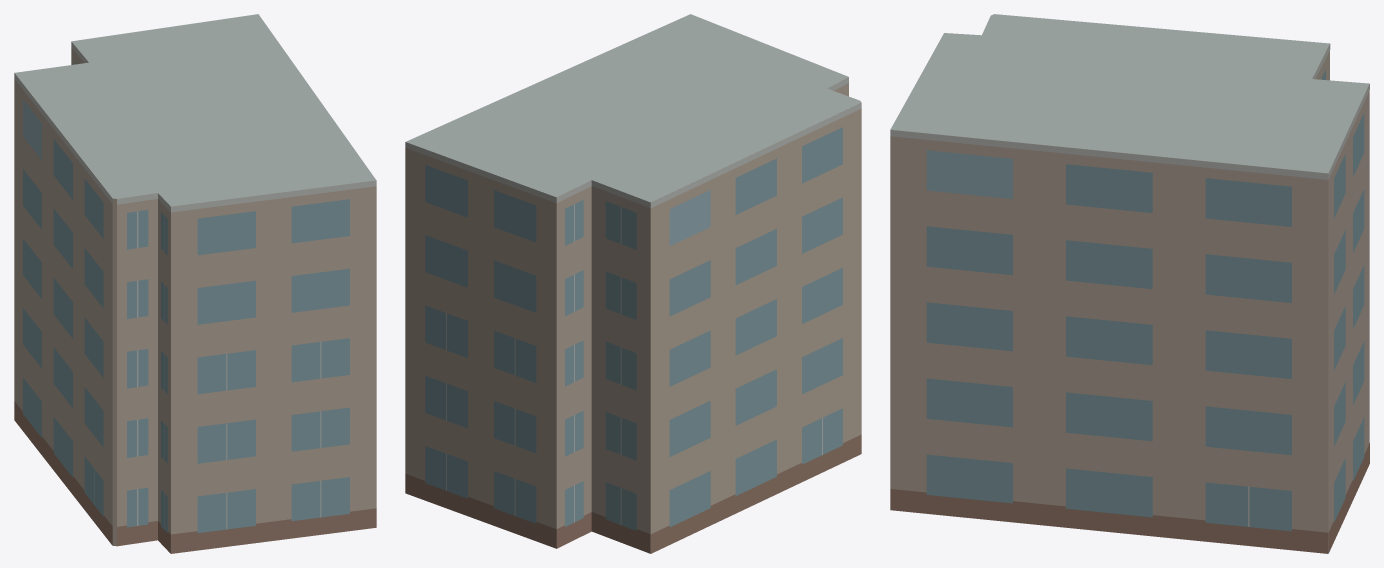
File: survey-upis-32499279.glb
The picture shows the model from 3 angles, left to right: view 1: azimuth 30°, elevation 25°; view 2: azimuth 150°, elevation 25°; view 3: azimuth 270°, elevation 25°; orthographic projection. The views are drawn at different scales.
Parts seen in each view (by area): view 1: survey-upis-32499279.tmp; view 2: survey-upis-32499279.tmp; view 3: survey-upis-32499279.tmp.
Part boxes in pixels (bbox=[...]): survey-upis-32499279.tmp: bbox=[14, 14, 376, 553]; survey-upis-32499279.tmp: bbox=[405, 14, 861, 553]; survey-upis-32499279.tmp: bbox=[890, 14, 1369, 553].
Size of the model in its own units: 13.14 by 14.6 by 16.69.
